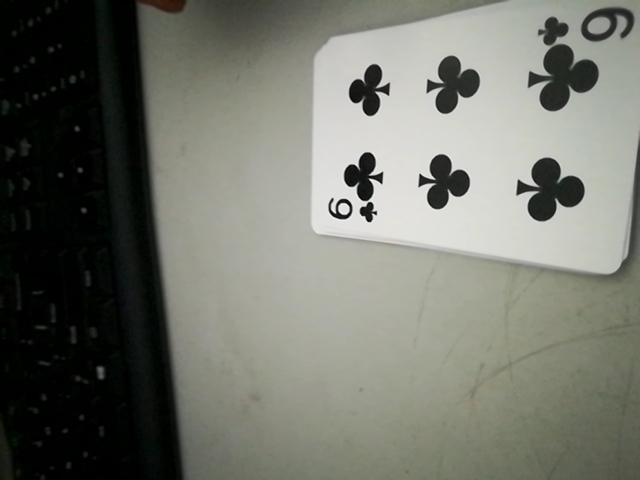mh 6: (538, 1, 640, 52), (318, 196, 380, 232)
